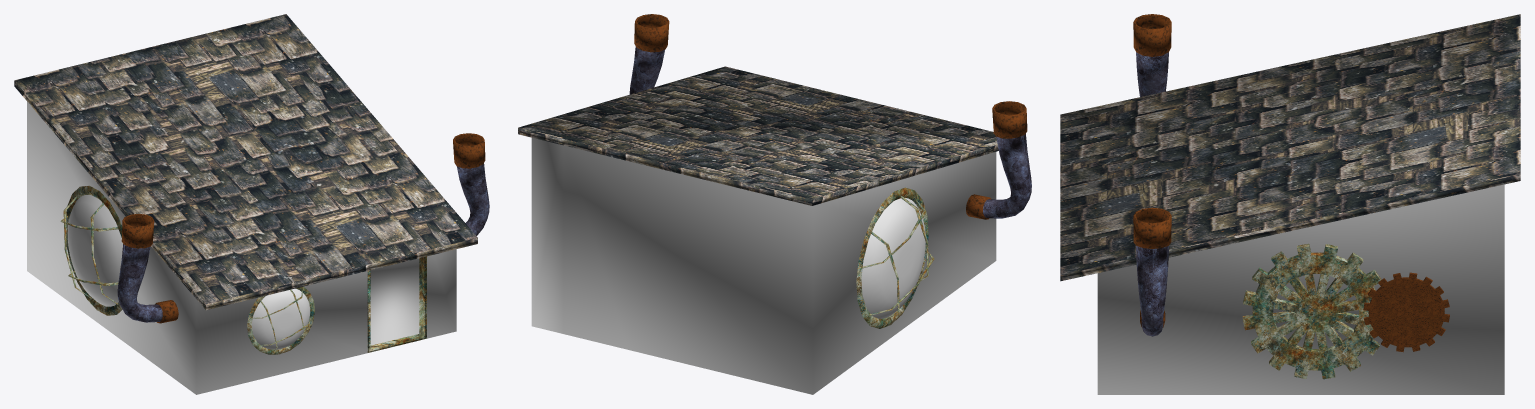
The model's file is Large House.fbx.
3 views of the same model, side by side, from view 1: azimuth 30°, elevation 25°; view 2: azimuth 150°, elevation 25°; view 3: azimuth 270°, elevation 25° (orthographic). The views are drawn at different scales.
Parts seen in each view (by area): view 1: Tabern; view 2: Tabern; view 3: Tabern, Gear.001, Gear2.001.
Part boxes in pixels (x1,y1,x2,y2): Tabern: [14, 14, 489, 394]; Tabern: [518, 14, 1031, 394]; Tabern: [1060, 14, 1520, 394]; Gear.001: [1242, 243, 1381, 379]; Gear2.001: [1363, 272, 1449, 352].
Size of the model in its own units: 588 by 285 by 528.
